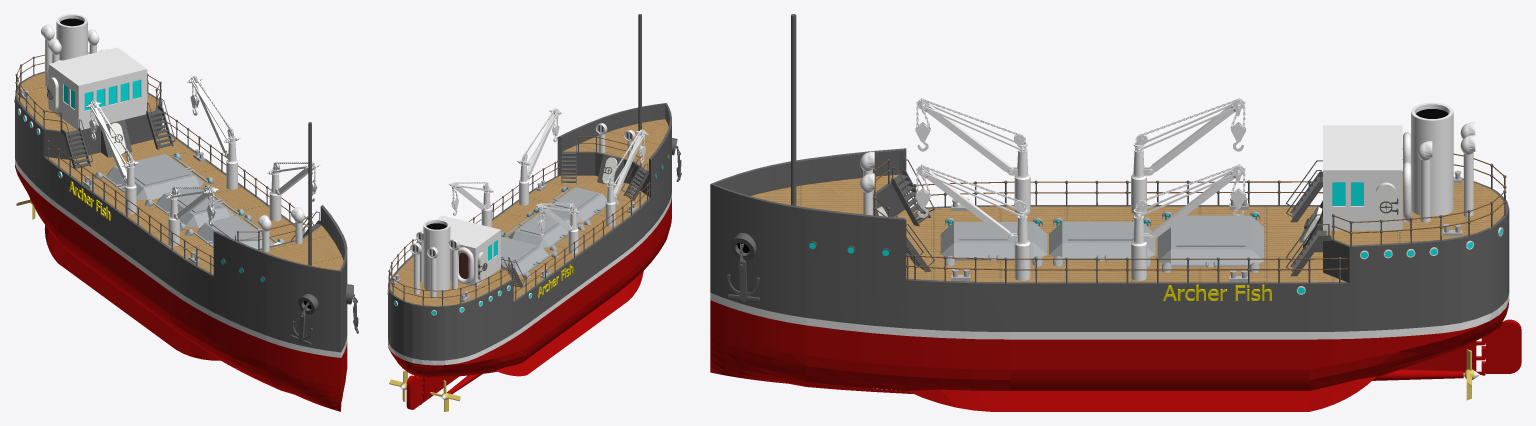
File: Fishing.glb
3 views of the same model, side by side, from view 1: azimuth 30°, elevation 25°; view 2: azimuth 150°, elevation 25°; view 3: azimuth 270°, elevation 25° (orthographic). The views are drawn at different scales.
Visible parts, largest first — view 1: Material2 (×13), Material3; view 2: Material2 (×16), Material3; view 3: Material2 (×15), Material3.
Boxes of the visible parts, box(x1,y1,x2,y2) form: Material2 (×13): box(14, 14, 358, 411); Material3: box(48, 77, 281, 245); Material2 (×16): box(387, 14, 681, 411); Material3: box(477, 157, 617, 280); Material2 (×15): box(710, 14, 1521, 411); Material3: box(877, 182, 1396, 244).
Bounding box in the file's own units: 281 × 600 × 1199.
24 materials, 5 textured.
